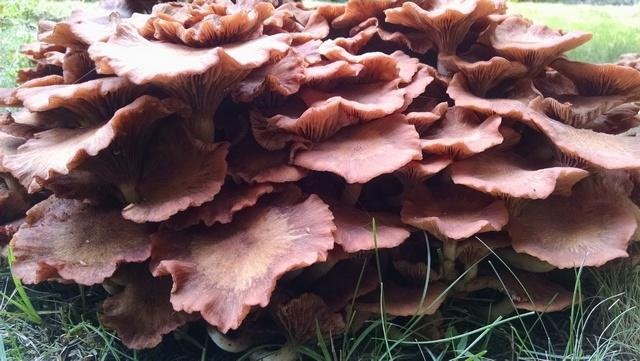Edible Mushroom: (1, 0, 637, 352)
